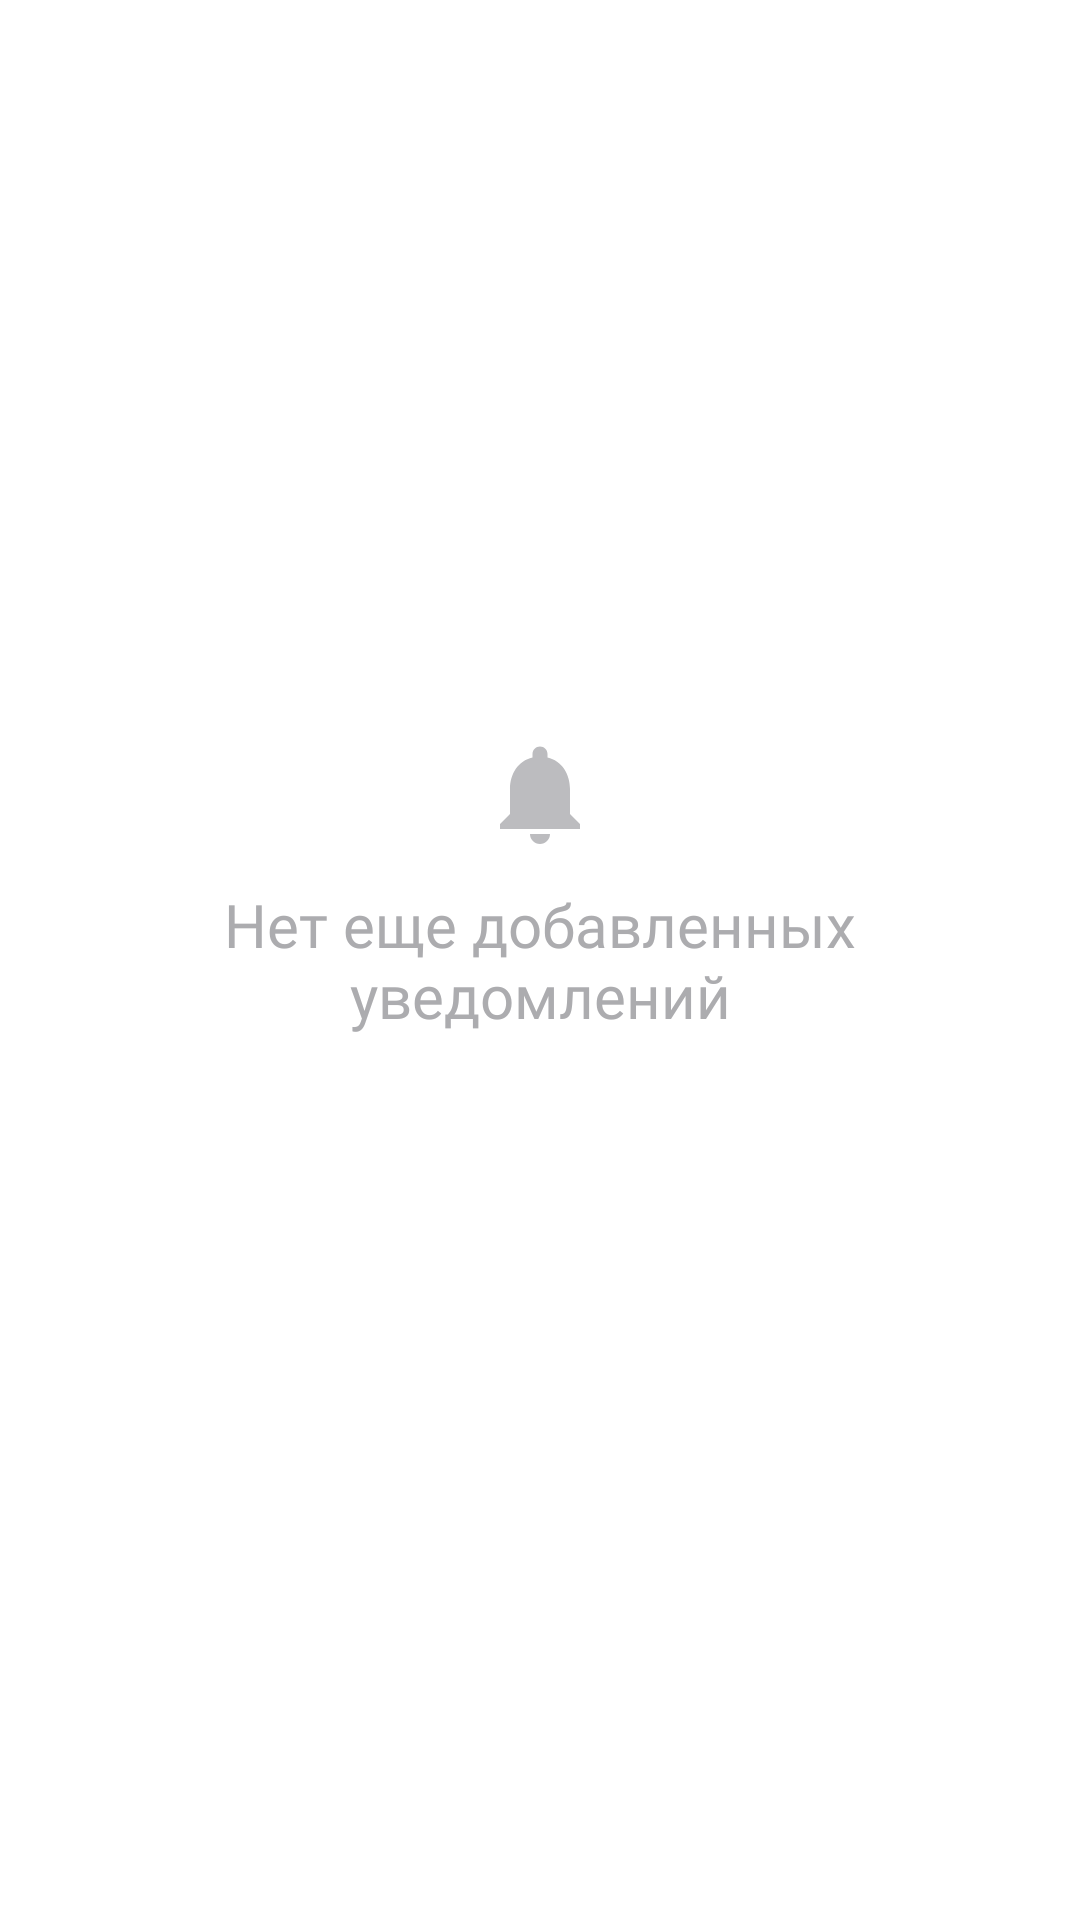

Locate icon controls on the screen. Image size 1080 × 1920, boxes as (x1, y1, x2, y2).
notifications: (500, 746, 580, 844)
